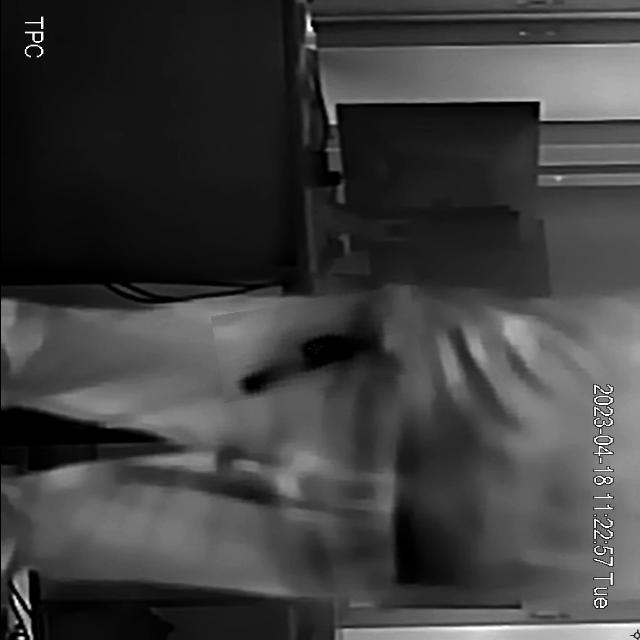Weapon: (212, 292, 420, 396)
